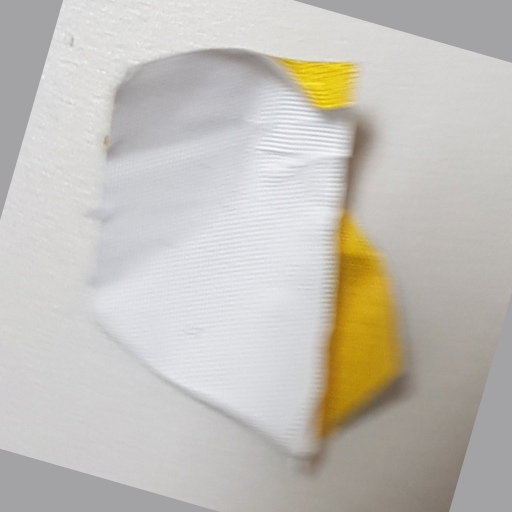Paper_3: (84, 46, 416, 476)
